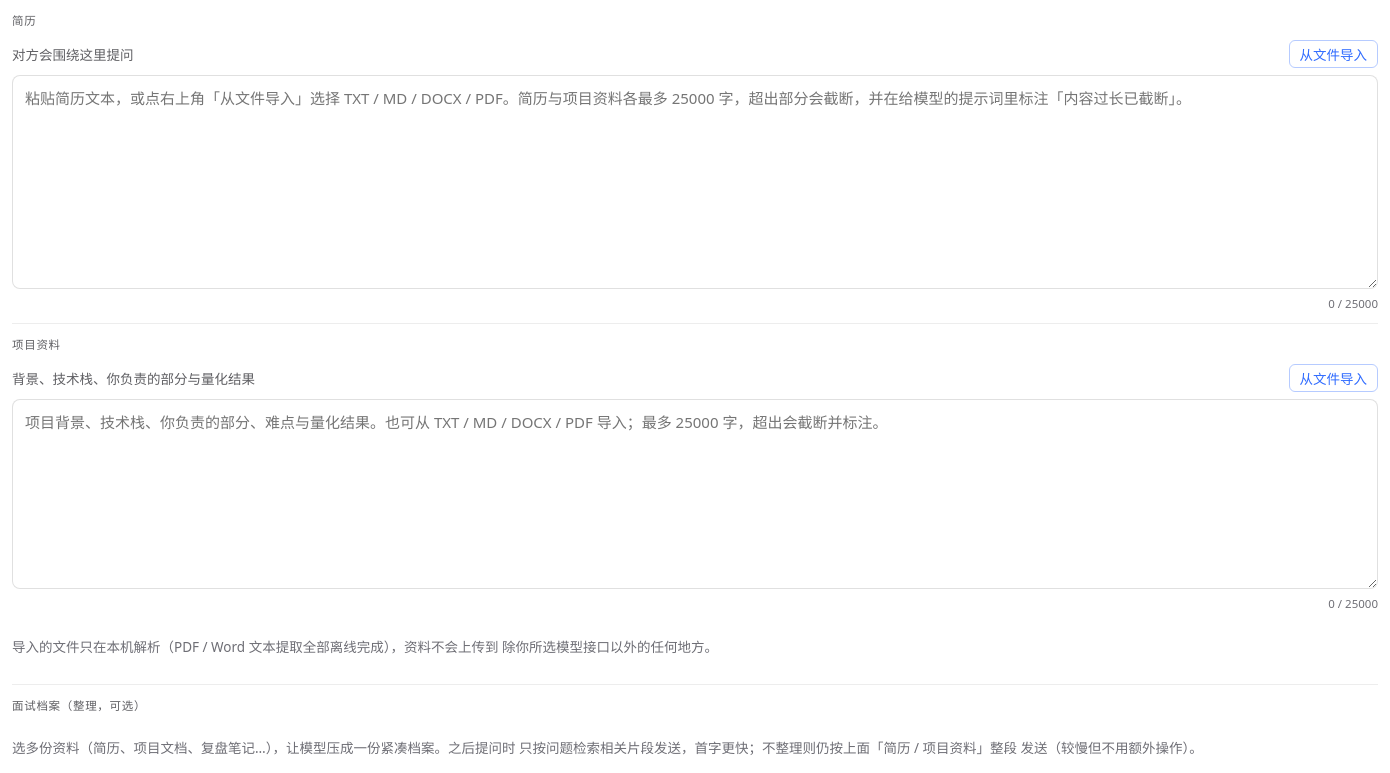
ProfileCard —— 从文件导入 › 后端解析失败：状态带「导入失败：」前缀，不改内容
Click the button "从文件导入" in the row of "对方会围绕这里提问" at (1333, 54), box [1288,40,1378,68]
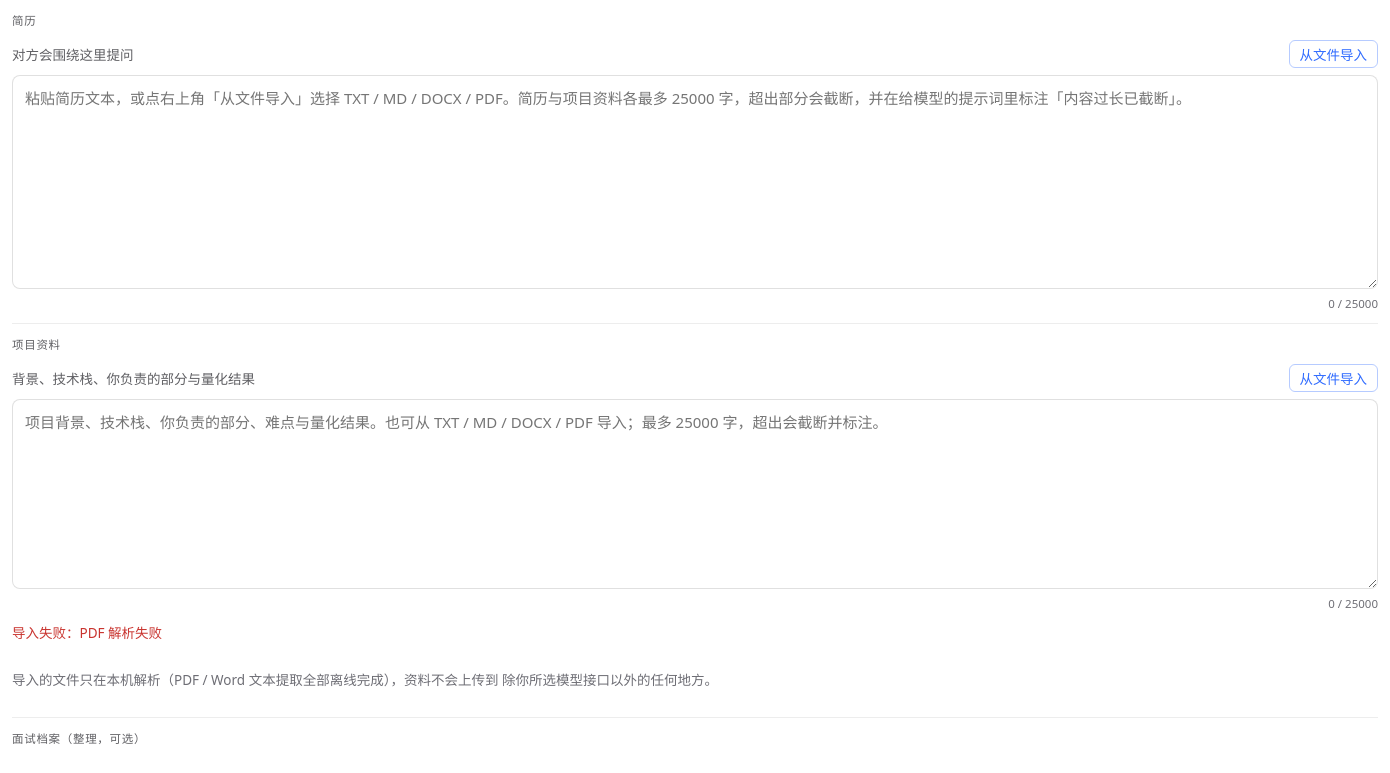
Now the text "导入失败：PDF 解析失败" is shown, box [12,624,162,642]
